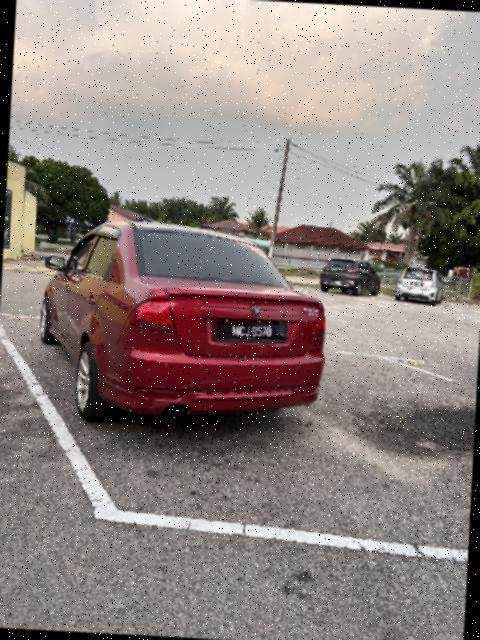License_Plate: (214, 320, 290, 346), (331, 280, 345, 287), (412, 283, 425, 288)
MCJ8570: (214, 320, 290, 346)
car: (20, 212, 336, 431), (319, 258, 386, 301), (396, 268, 446, 306)
